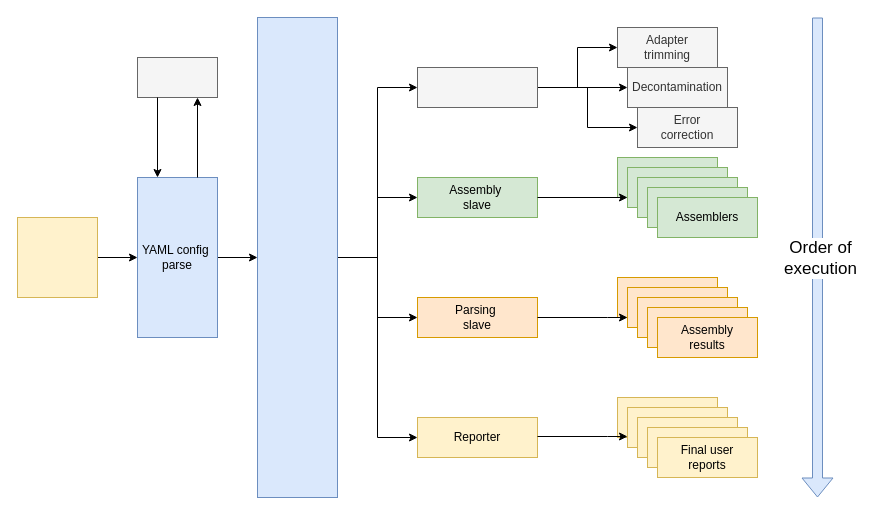
Image size: 874x515. Some labels were removed from this diagram. The centre of each missing label's shape, as x and y in pixels:
"Containers prepper" belongs at point (177, 77).
"Master process" belongs at point (297, 257).
"Quality control slave" belongs at point (477, 87).
"User YAML file" belongs at point (57, 257).
